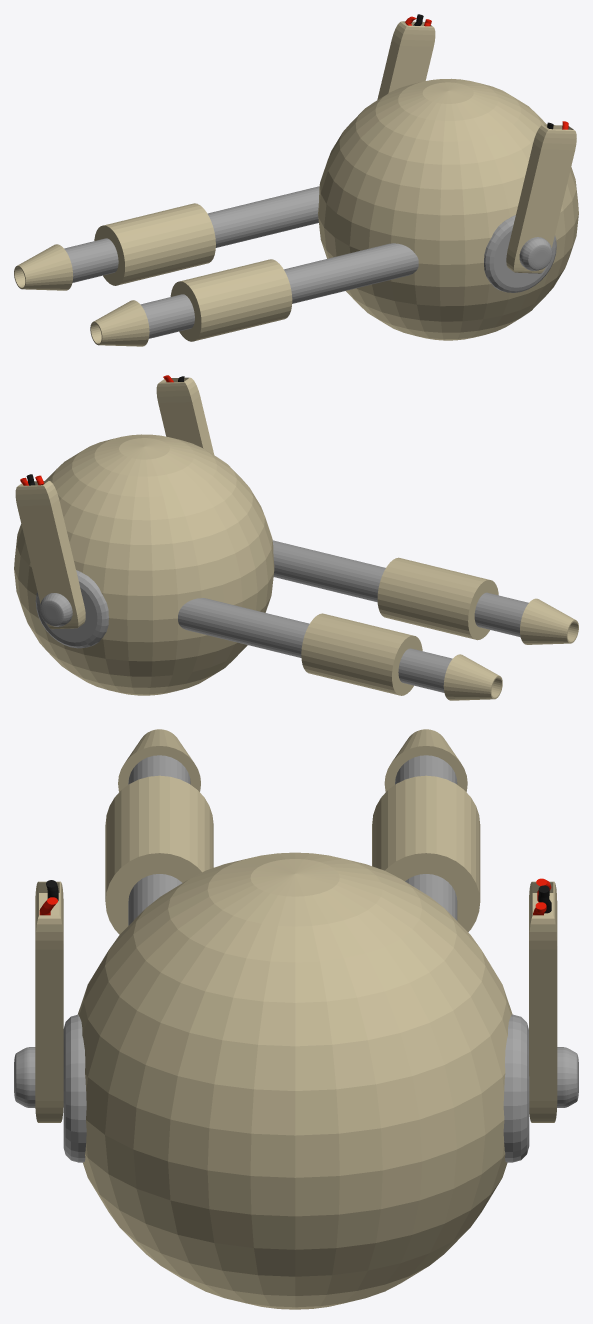
Rendered from principal3.fbx.
The picture shows the model from 3 angles, top to bottom: view 1: azimuth 30°, elevation 25°; view 2: azimuth 150°, elevation 25°; view 3: azimuth 270°, elevation 25°; orthographic projection. The views are drawn at different scales.
Parts seen in each view (by area): view 1: Sphere, Cylinder.002, Cylinder.003, Cylinder.001, Cylinder.004, Cube.001, Cube, Cylinder.007, Cylinder, Cylinder.005, Cylinder.008; view 2: Sphere, Cylinder.003, Cylinder.002, Cylinder.004, Cylinder.001, Cube, Cube.001, Cylinder.006, Cylinder.005, Cylinder, Cylinder.009; view 3: Sphere, Cylinder.002, Cylinder.003, Cube.001, Cube, Cylinder.006, Cylinder.007, Cylinder.001, Cylinder.004, Cylinder.005, Cylinder, Cylinder.008 (+1 smaller).
Part boxes in pixels (bbox=[...]): Sphere: bbox=[318, 78, 578, 340]; Cylinder.002: bbox=[170, 259, 292, 341]; Cylinder.003: bbox=[94, 203, 215, 285]; Cylinder.001: bbox=[140, 243, 418, 338]; Cylinder.004: bbox=[64, 186, 319, 282]; Cube.001: bbox=[506, 124, 576, 273]; Cube: bbox=[377, 21, 435, 99]; Cylinder.007: bbox=[484, 215, 556, 292]; Cylinder: bbox=[90, 300, 149, 346]; Cylinder.005: bbox=[14, 244, 73, 290]; Cylinder.008: bbox=[519, 237, 552, 270]; Sphere: bbox=[14, 434, 274, 695]; Cylinder.003: bbox=[301, 613, 422, 695]; Cylinder.002: bbox=[377, 557, 498, 640]; Cylinder.004: bbox=[178, 598, 452, 692]; Cylinder.001: bbox=[272, 540, 528, 637]; Cube: bbox=[15, 480, 85, 629]; Cube.001: bbox=[156, 377, 214, 454]; Cylinder.006: bbox=[35, 570, 108, 648]; Cylinder.005: bbox=[443, 654, 502, 700]; Cylinder: bbox=[520, 598, 578, 644]; Cylinder.009: bbox=[40, 593, 72, 626]; Sphere: bbox=[77, 852, 512, 1309]; Cylinder.002: bbox=[105, 775, 213, 934]; Cylinder.003: bbox=[372, 775, 480, 932]; Cube.001: bbox=[35, 881, 63, 1122]; Cube: bbox=[529, 881, 557, 1122]; Cylinder.006: bbox=[503, 1014, 529, 1162]; Cylinder.007: bbox=[63, 1014, 86, 1162]; Cylinder.001: bbox=[128, 755, 190, 925]; Cylinder.004: bbox=[395, 755, 457, 920]; Cylinder.005: bbox=[384, 729, 467, 791]; Cylinder: bbox=[118, 729, 200, 791]; Cylinder.008: bbox=[14, 1047, 35, 1107].
Bounding box in the file's own units: 754 × 359 × 419.
